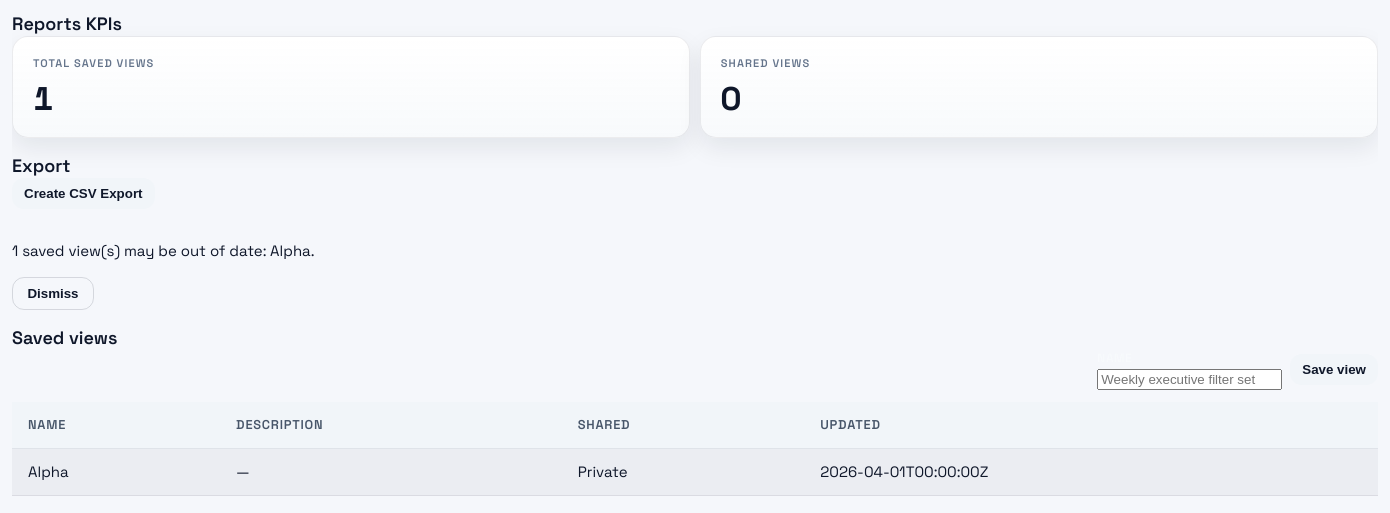
Test case: ReportsTabSection — GA-B2 drift banner › banner dismissible
The width and height of the screenshot is (1390, 513).
Expected: the message "1 saved view(s) may be out of date: Alpha. Dismiss" is shown, [12,241,314,310]
Click the button "Dismiss" at (53, 293), box [12,277,94,310]
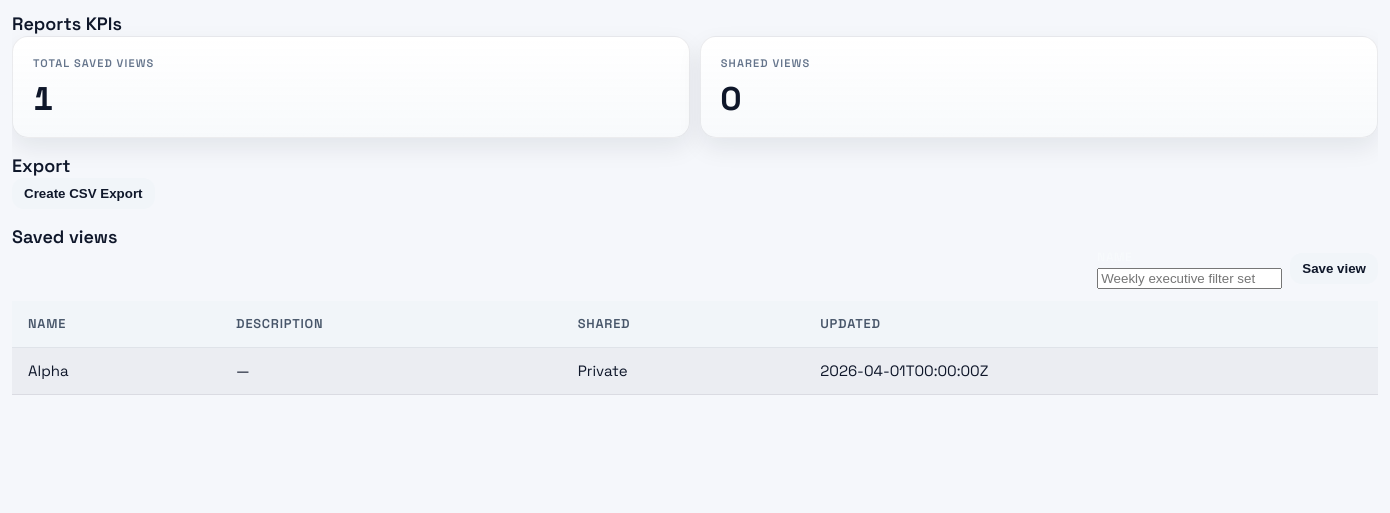
Expected: the message with test id "drift-banner" is gone
